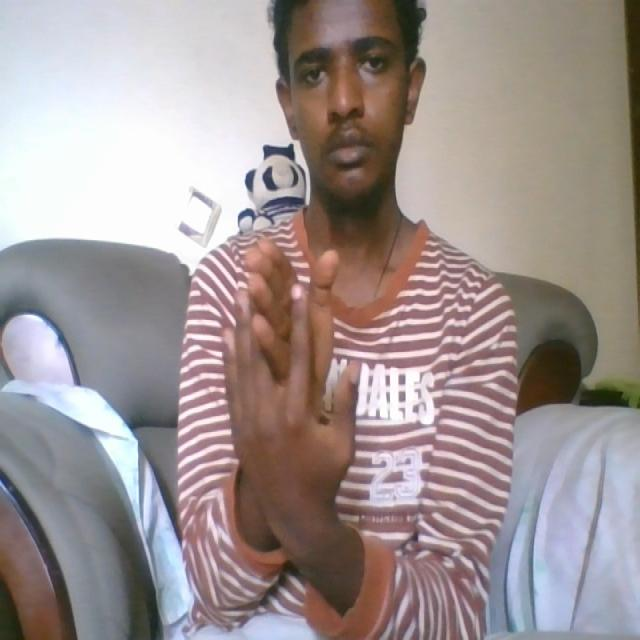bekul: (216, 230, 364, 546)
